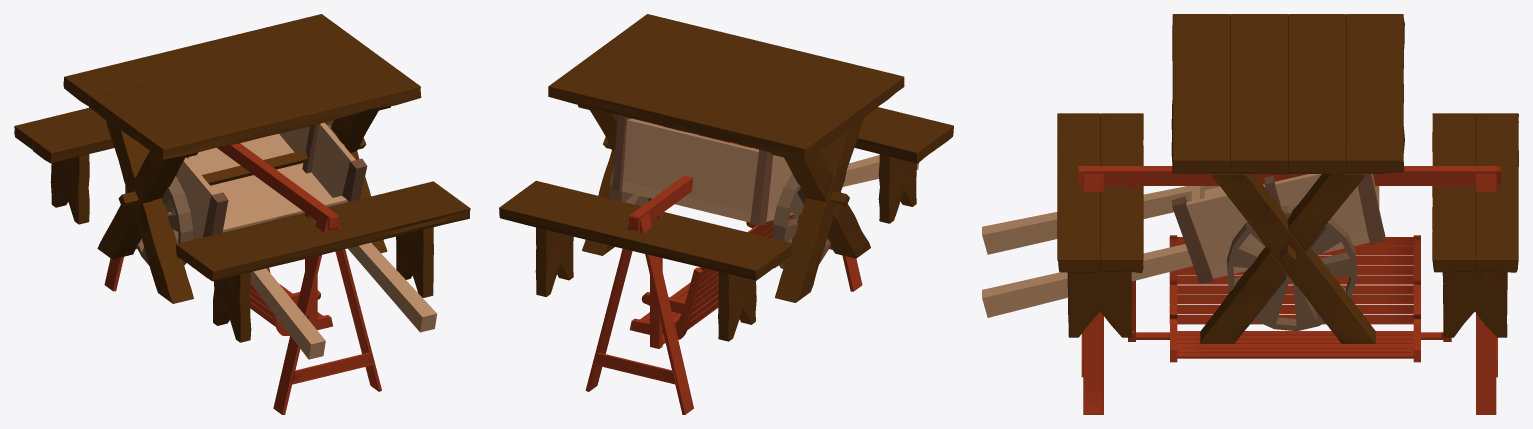
The model's file is furniture.glb.
The picture shows the model from 3 angles, left to right: view 1: azimuth 30°, elevation 25°; view 2: azimuth 150°, elevation 25°; view 3: azimuth 270°, elevation 25°; orthographic projection. The views are drawn at different scales.
Visible parts, largest first — view 1: Table, Cart.001, Swing, Cylinder; view 2: Table, Cart.001, Swing, Cylinder; view 3: Table, Swing, Cart.001, Cylinder.
Part boxes in pixels (left/top/right/bottom): Table: left=14, top=14, right=470, bottom=342; Cart.001: left=168, top=122, right=436, bottom=359; Swing: left=104, top=143, right=381, bottom=414; Cylinder: left=125, top=124, right=344, bottom=265; Table: left=499, top=14, right=953, bottom=341; Cart.001: left=612, top=115, right=918, bottom=225; Swing: left=585, top=142, right=862, bottom=414; Cylinder: left=609, top=165, right=830, bottom=268; Table: left=1057, top=14, right=1518, bottom=343; Swing: left=1078, top=166, right=1500, bottom=414; Cart.001: left=982, top=173, right=1385, bottom=317; Cylinder: left=1227, top=205, right=1357, bottom=331.
Size of the model in its own units: 2.41 by 2.3 by 3.74.
Materials: 3 (1 with a texture image).
